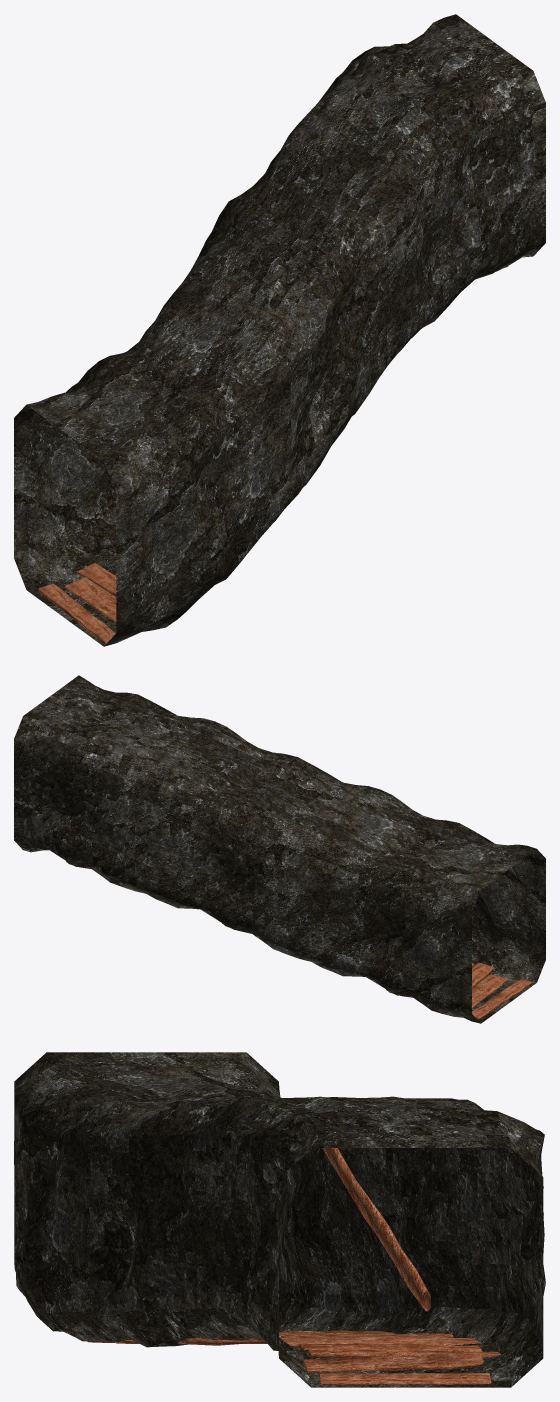
The model's file is Cave_045.fbx.
The picture shows the model from 3 angles, top to bottom: view 1: azimuth 30°, elevation 25°; view 2: azimuth 150°, elevation 25°; view 3: azimuth 270°, elevation 25°; orthographic projection. The views are drawn at different scales.
Parts seen in each view (by area): view 1: Cave.045; view 2: Cave.045; view 3: Cave.045.
Boxes of the visible parts, box(x1,y1,x2,y2) form: Cave.045: box(14, 14, 545, 646); Cave.045: box(14, 675, 545, 1023); Cave.045: box(14, 1052, 545, 1387).
Bounding box in the file's own units: 900 × 604 × 603.
